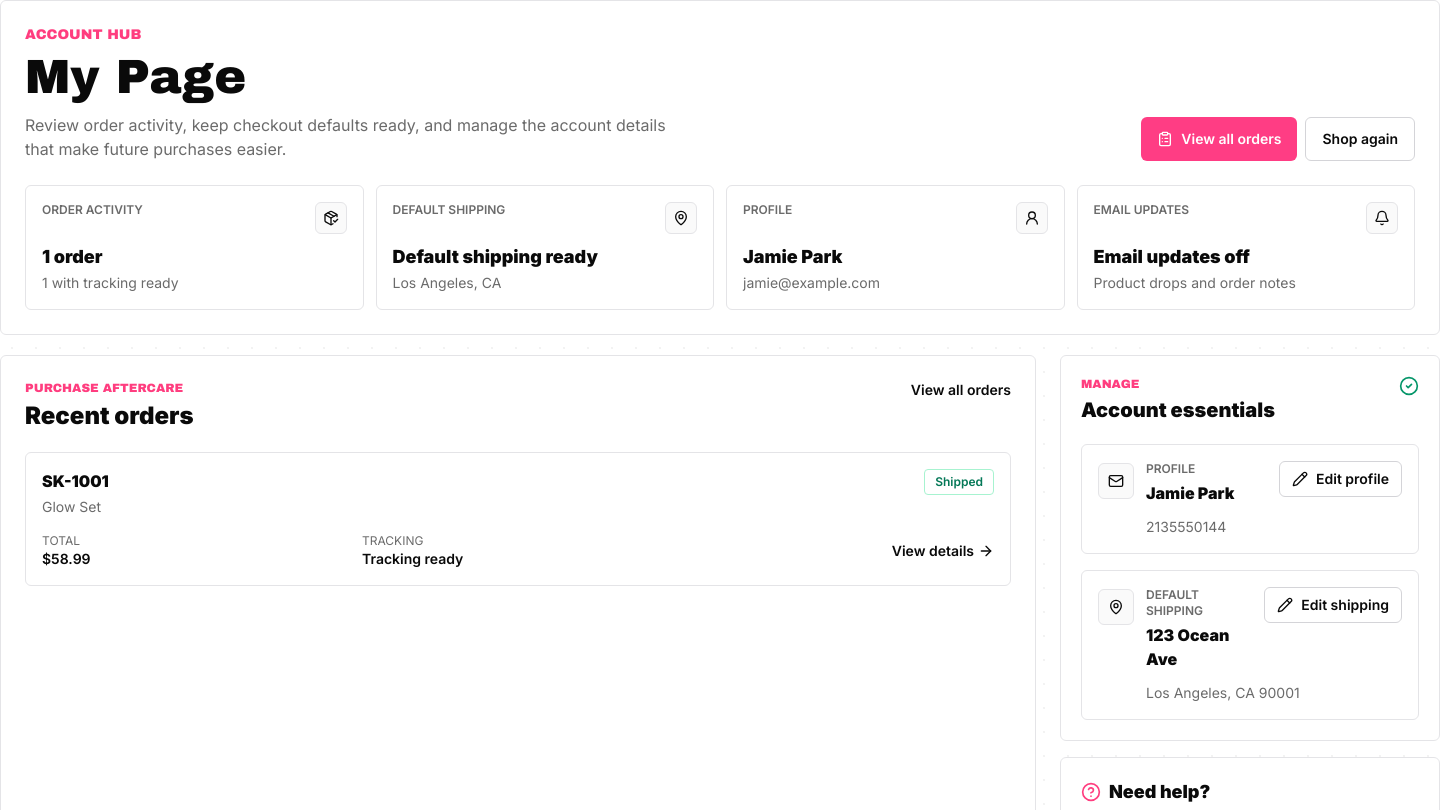
Scenario: AccountDashboard › keeps a failed edit open with an alert
The image size is (1440, 810).
Click the button "Edit shipping" at (1333, 604), box x1=1264 y1=586 x2=1402 y2=622
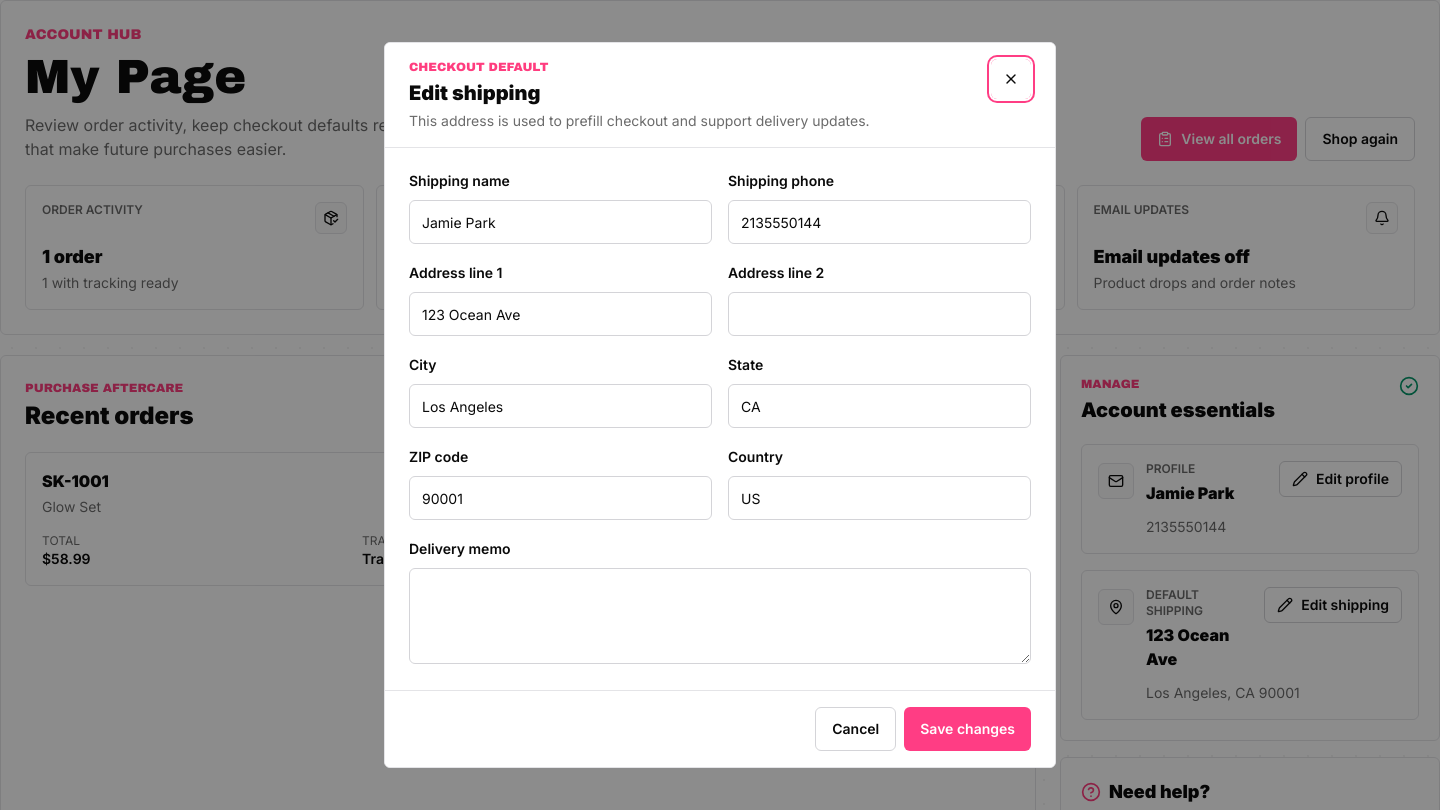
Replace the text in the field labelled "ZIP code" with "90002" at (560, 498), box x1=409 y1=476 x2=712 y2=520
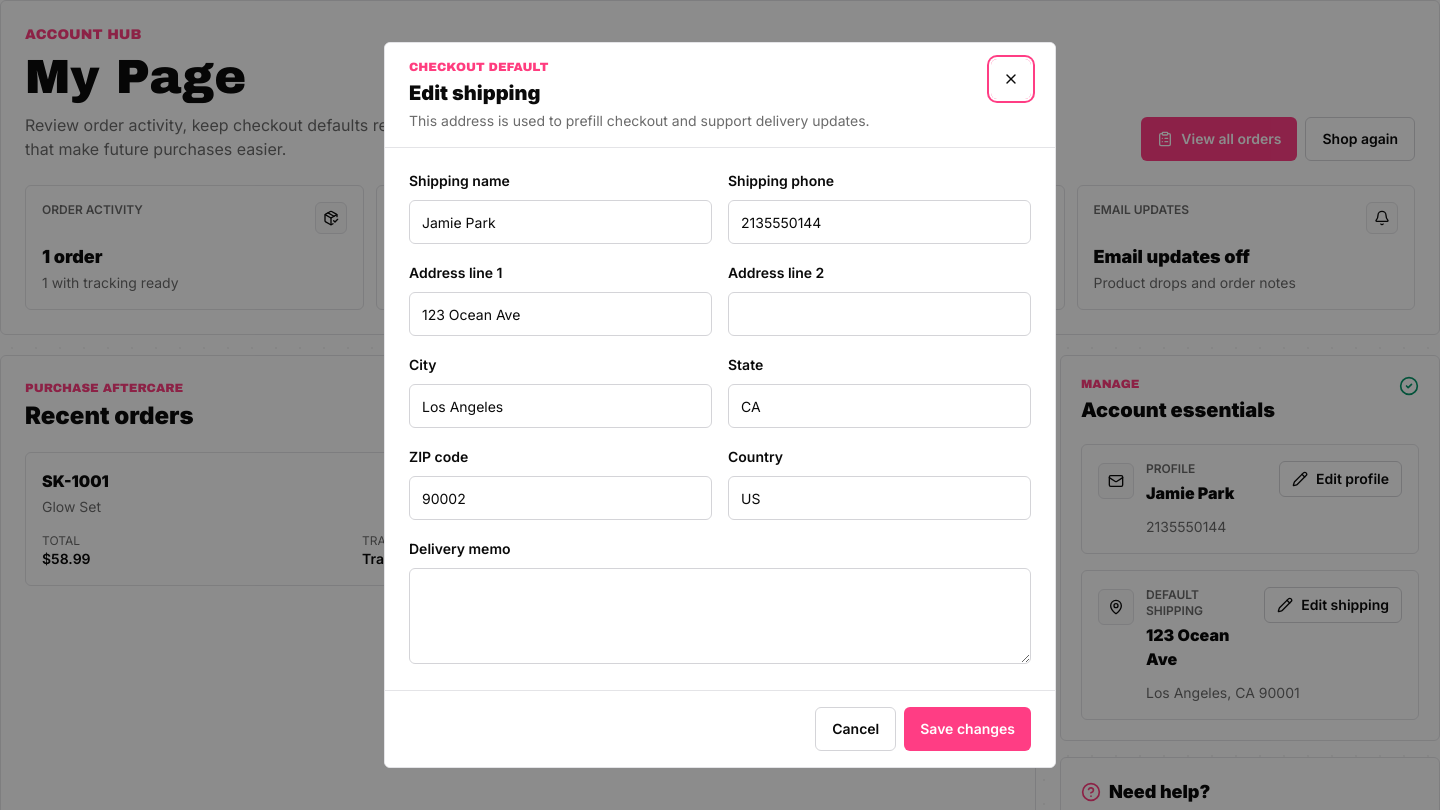
Click the button "Save changes" at (968, 729), box x1=904 y1=707 x2=1031 y2=751
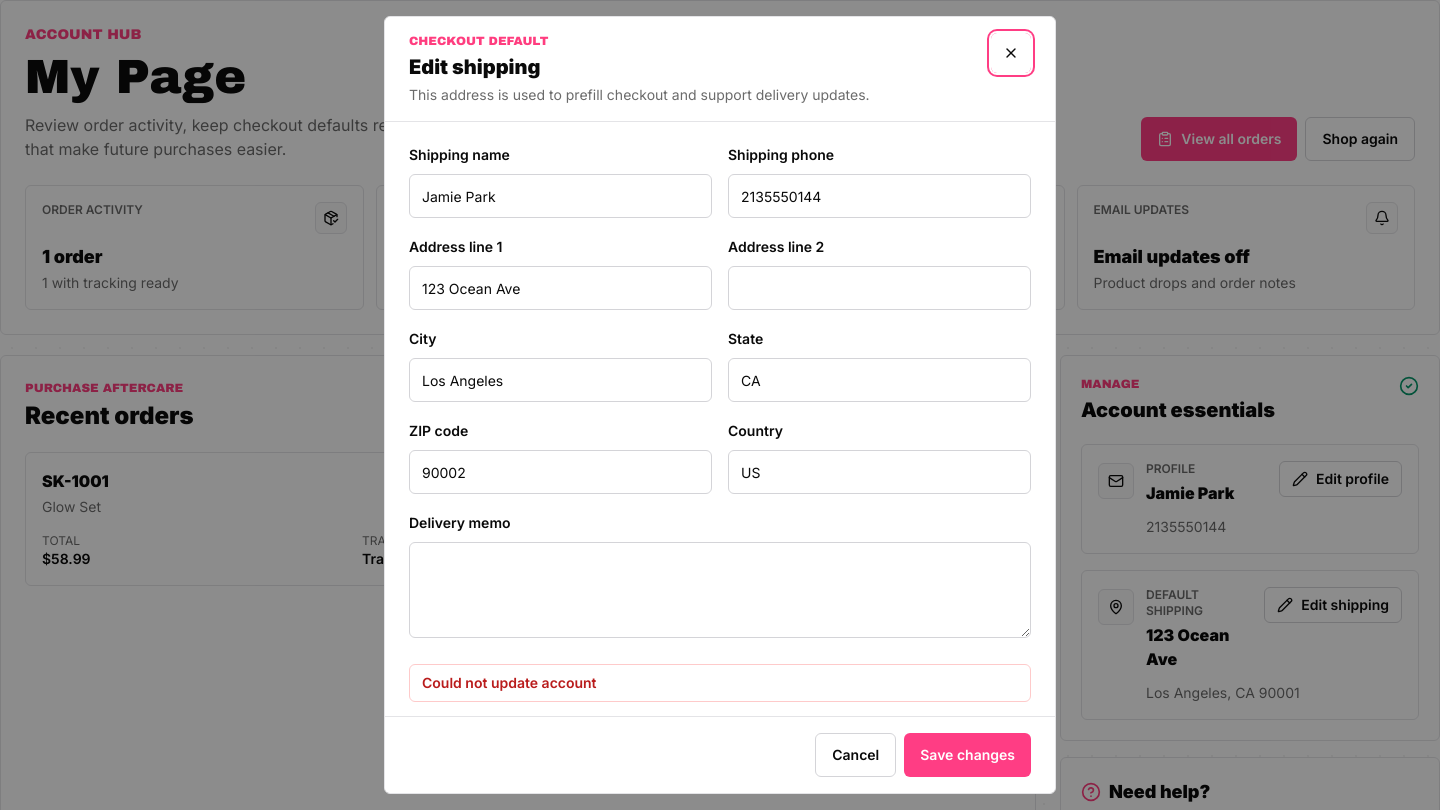
Now the dialog "Edit shipping" is shown, box x1=384 y1=16 x2=1056 y2=794
Now the field labelled "Address line 1" is shown, box x1=409 y1=266 x2=712 y2=310
Now the message reads "Could not update account", box x1=422 y1=674 x2=597 y2=691
